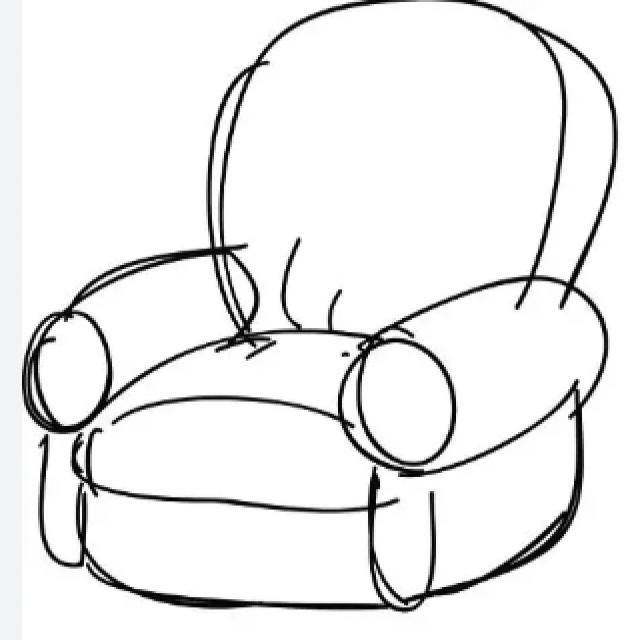Armrest: (336, 274, 610, 478), (19, 244, 260, 437)
Backrest: (204, 0, 618, 338)
Seat: (69, 329, 393, 511)
